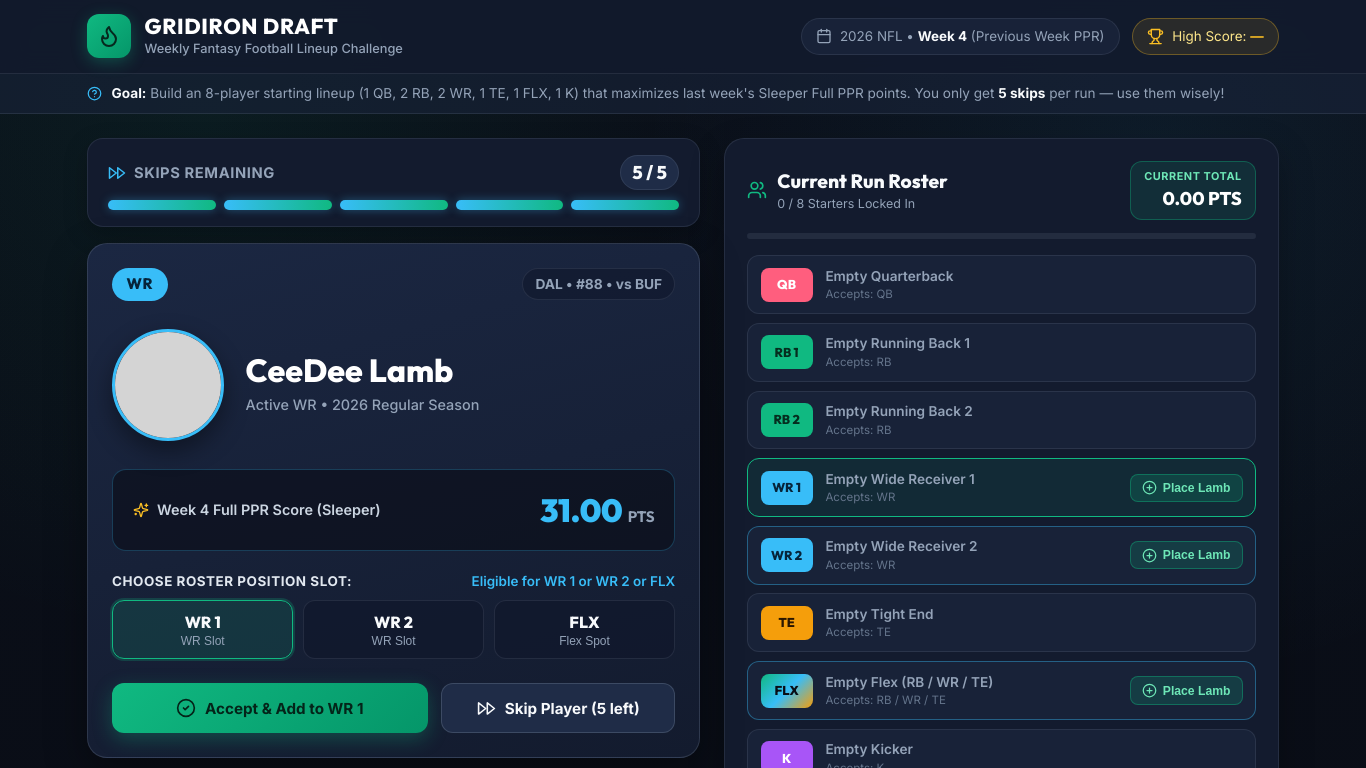
Scenario: Fantasy Football Lineup Game › displays player card details, tracks skips, and disables skip button after 5 skips
Expected: the element with test id "player-card" is shown, [87,243,700,758]
Expected: the text "CeeDee" is shown, [246,350,363,390]
Click the button with test id "skip-button" at (558, 708), box [441,684,675,733]
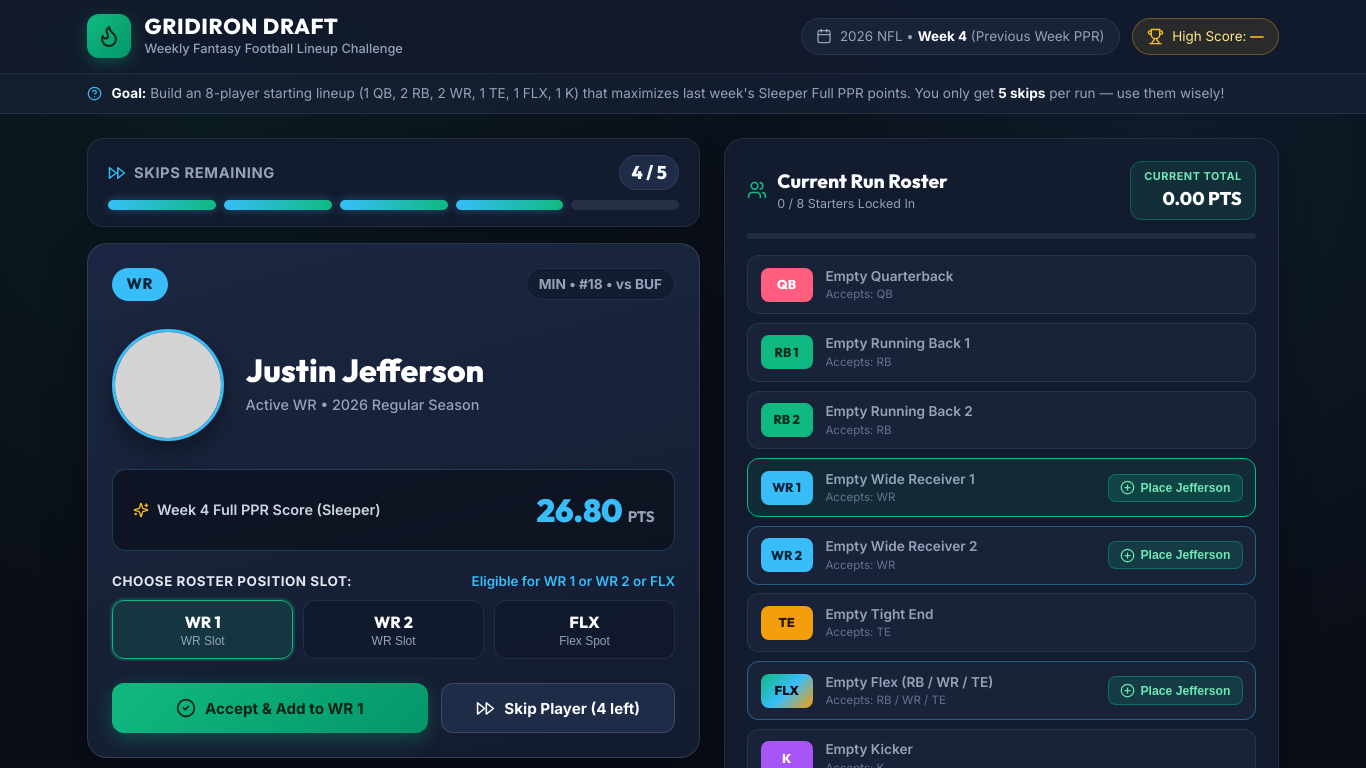
Expected: the element with test id "player-card" is shown, [87,243,700,758]
Now the text with test id "skips-remaining-count" reads "4 / 5", box [619,155,679,190]
Click the button with test id "skip-button" at (558, 708), box [441,684,675,733]
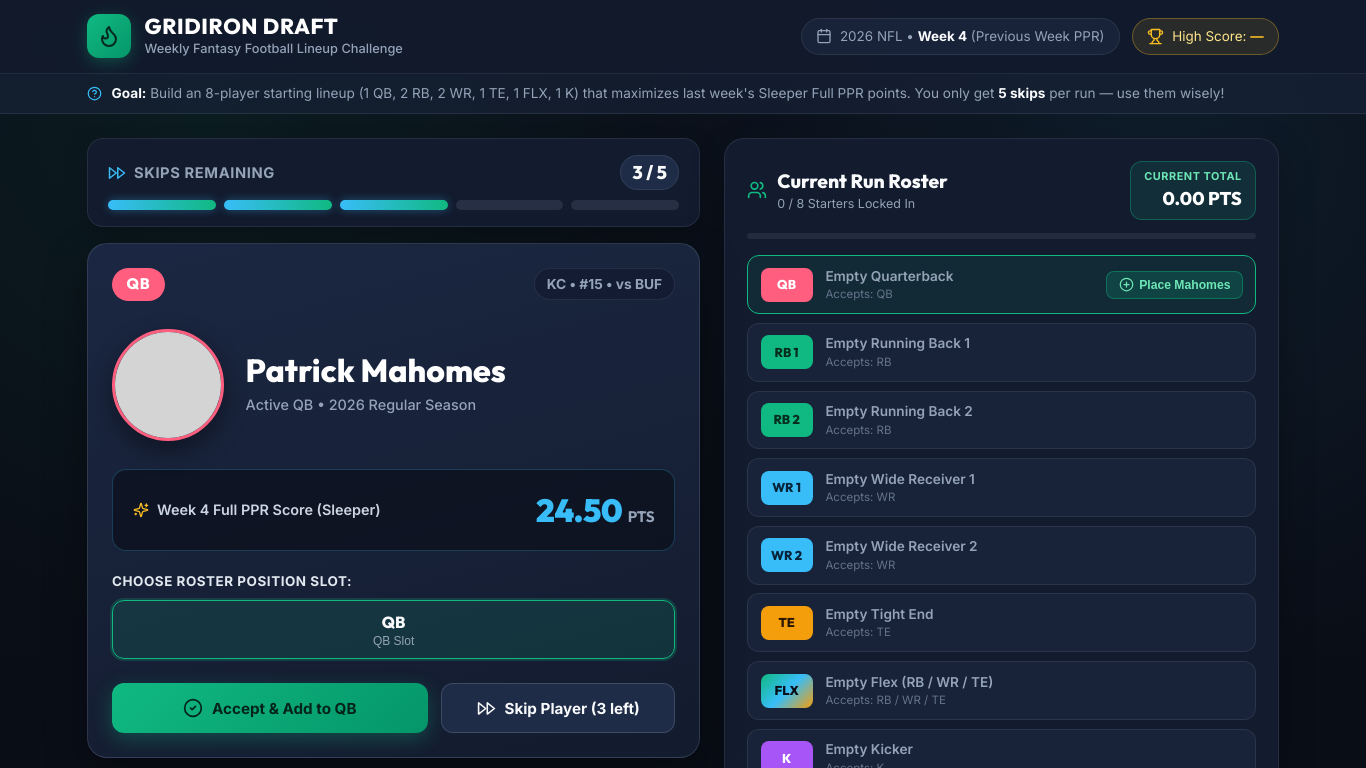
Expected: the element with test id "player-card" is shown, [87,243,700,758]
Click the button with test id "skip-button" at (558, 708), box [441,684,675,733]
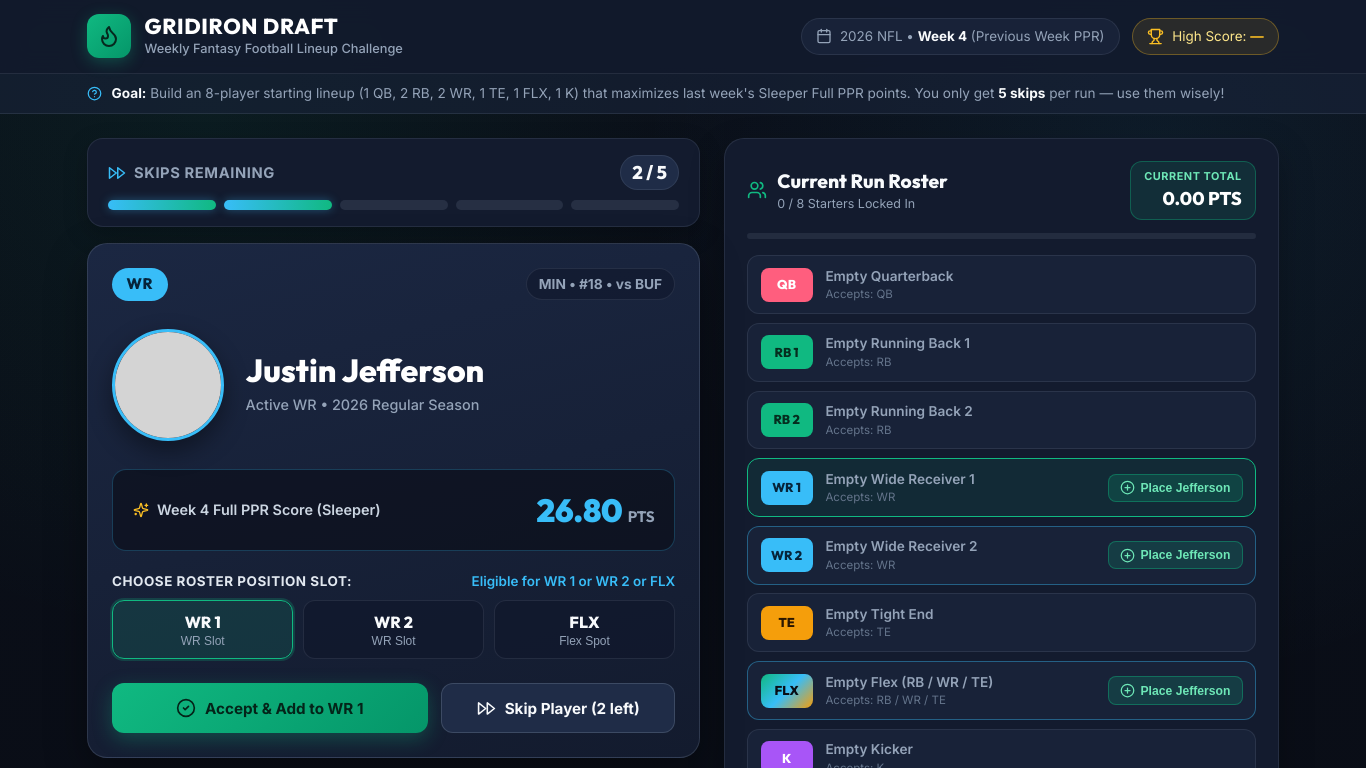
Expected: the element with test id "player-card" is shown, [87,243,700,758]
Click the button with test id "skip-button" at (558, 708), box [441,684,675,733]
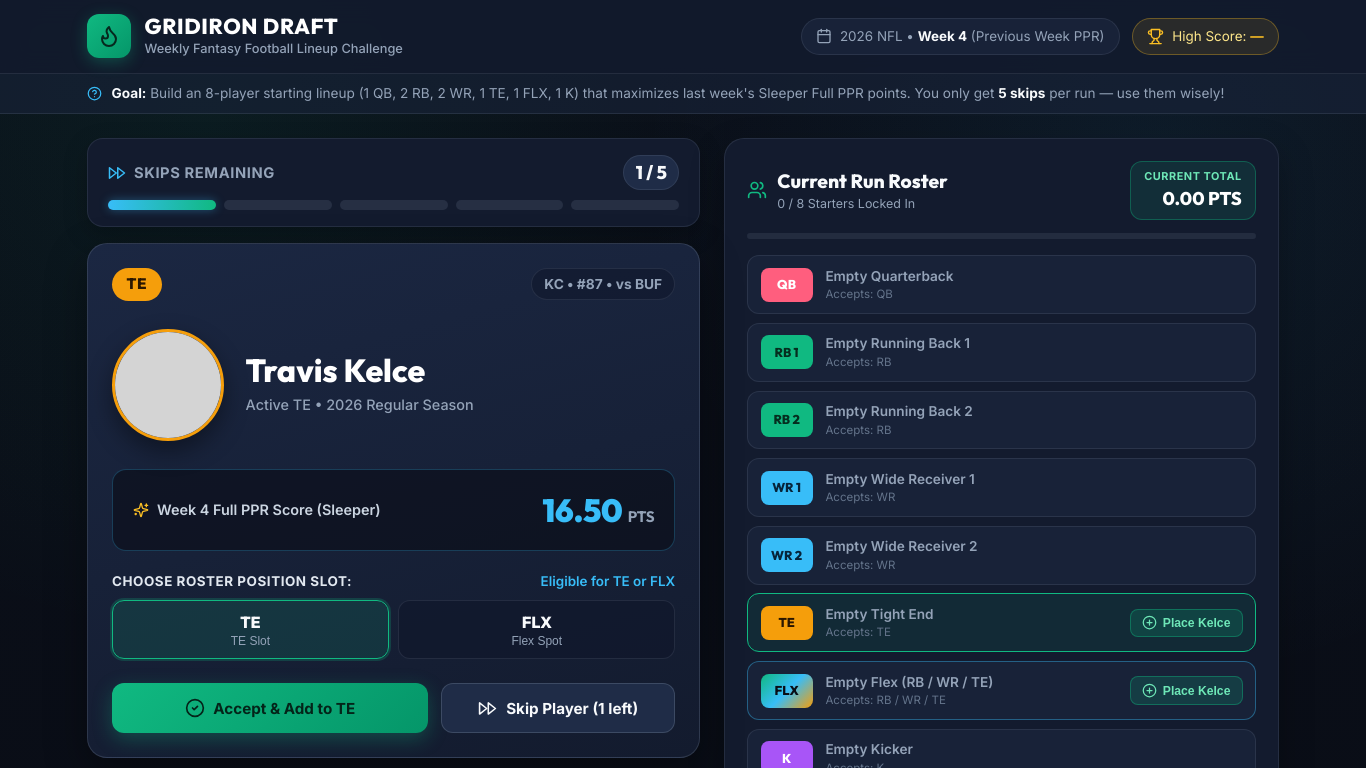
Expected: the element with test id "player-card" is shown, [87,243,700,758]
Click the button with test id "skip-button" at (558, 708), box [441,684,675,733]
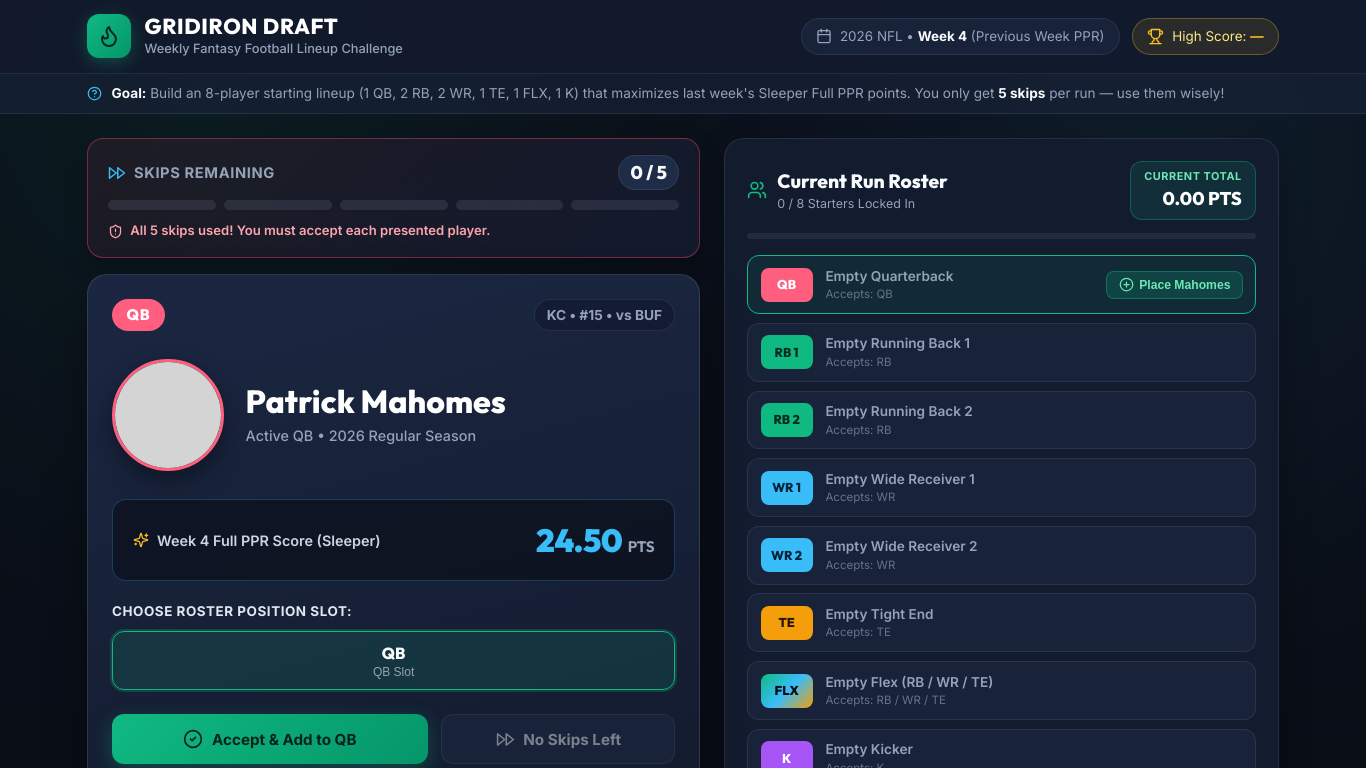
Expected: the button with test id "accept-button" is enabled, [112,714,428,764]
Now the button with test id "skip-button" is disabled, box [441,714,675,764]
